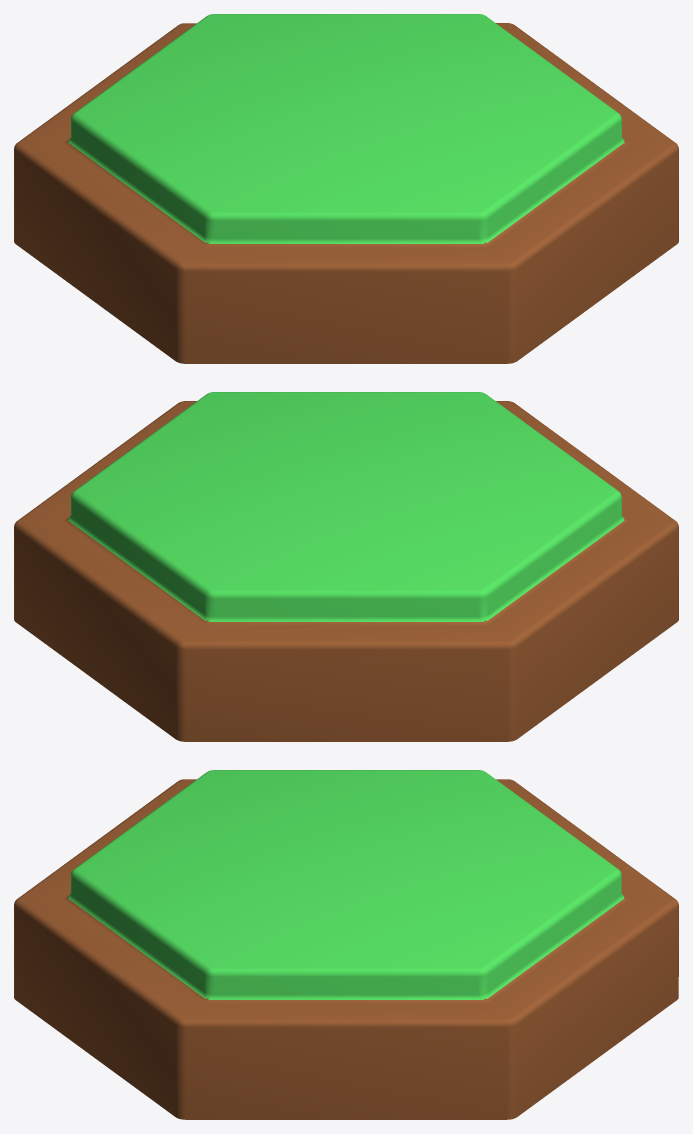
The model's file is Tile.fbx.
3 views of the same model, one above another, from view 1: azimuth 30°, elevation 25°; view 2: azimuth 150°, elevation 25°; view 3: azimuth 270°, elevation 25° (orthographic).
Parts seen in each view (by area): view 1: Tile; view 2: Tile; view 3: Tile.
Part boxes in pixels (<box>): Tile: <box>14,14,678,363</box>; Tile: <box>14,392,678,741</box>; Tile: <box>14,770,678,1119</box>.
Size of the model in its own units: 173 by 42.3 by 199.
